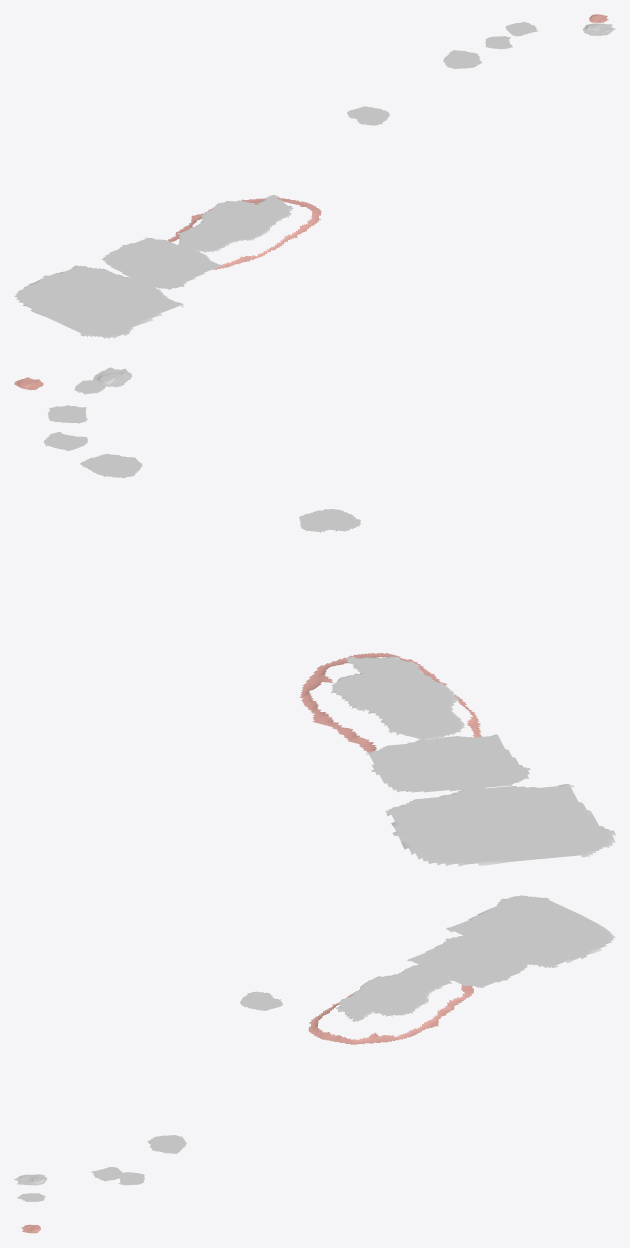
The model's file is L2MeshForGroundTest.fbx.
3 renders of one model, top to bottom at view 1: azimuth 90°, elevation 25°; view 2: azimuth 150°, elevation 25°; view 3: azimuth 270°, elevation 25°, orthographic. The views are drawn at different scales.
Visible parts, largest first — view 1: Landscape.035, Landscape.034, Landscape.033, Landscape.036, Landscape.032, Landscape.031; view 2: Landscape.035, Landscape.034, Landscape.033, Landscape.036, Landscape.032, Landscape.031; view 3: Landscape.035, Landscape.033, Landscape.034, Landscape.036, Landscape.032, Landscape.031.
Part boxes in pixels (x1,y1,x2,y2): Landscape.035: (14,265,183,338); Landscape.034: (101,237,222,289); Landscape.033: (178,195,293,252); Landscape.036: (168,197,321,269); Landscape.032: (347,106,389,125); Landscape.031: (443,50,482,69); Landscape.035: (385,784,615,866); Landscape.034: (366,734,530,792); Landscape.033: (331,656,465,740); Landscape.036: (299,653,482,752); Landscape.032: (299,509,360,532); Landscape.031: (79,453,142,478); Landscape.035: (446,895,615,967); Landscape.033: (336,964,451,1021); Landscape.034: (407,936,527,987); Landscape.036: (308,985,473,1044); Landscape.032: (240,991,283,1010); Landscape.031: (147,1135,186,1153).
Size of the model in its own units: 43558 by 4014 by 33447.
